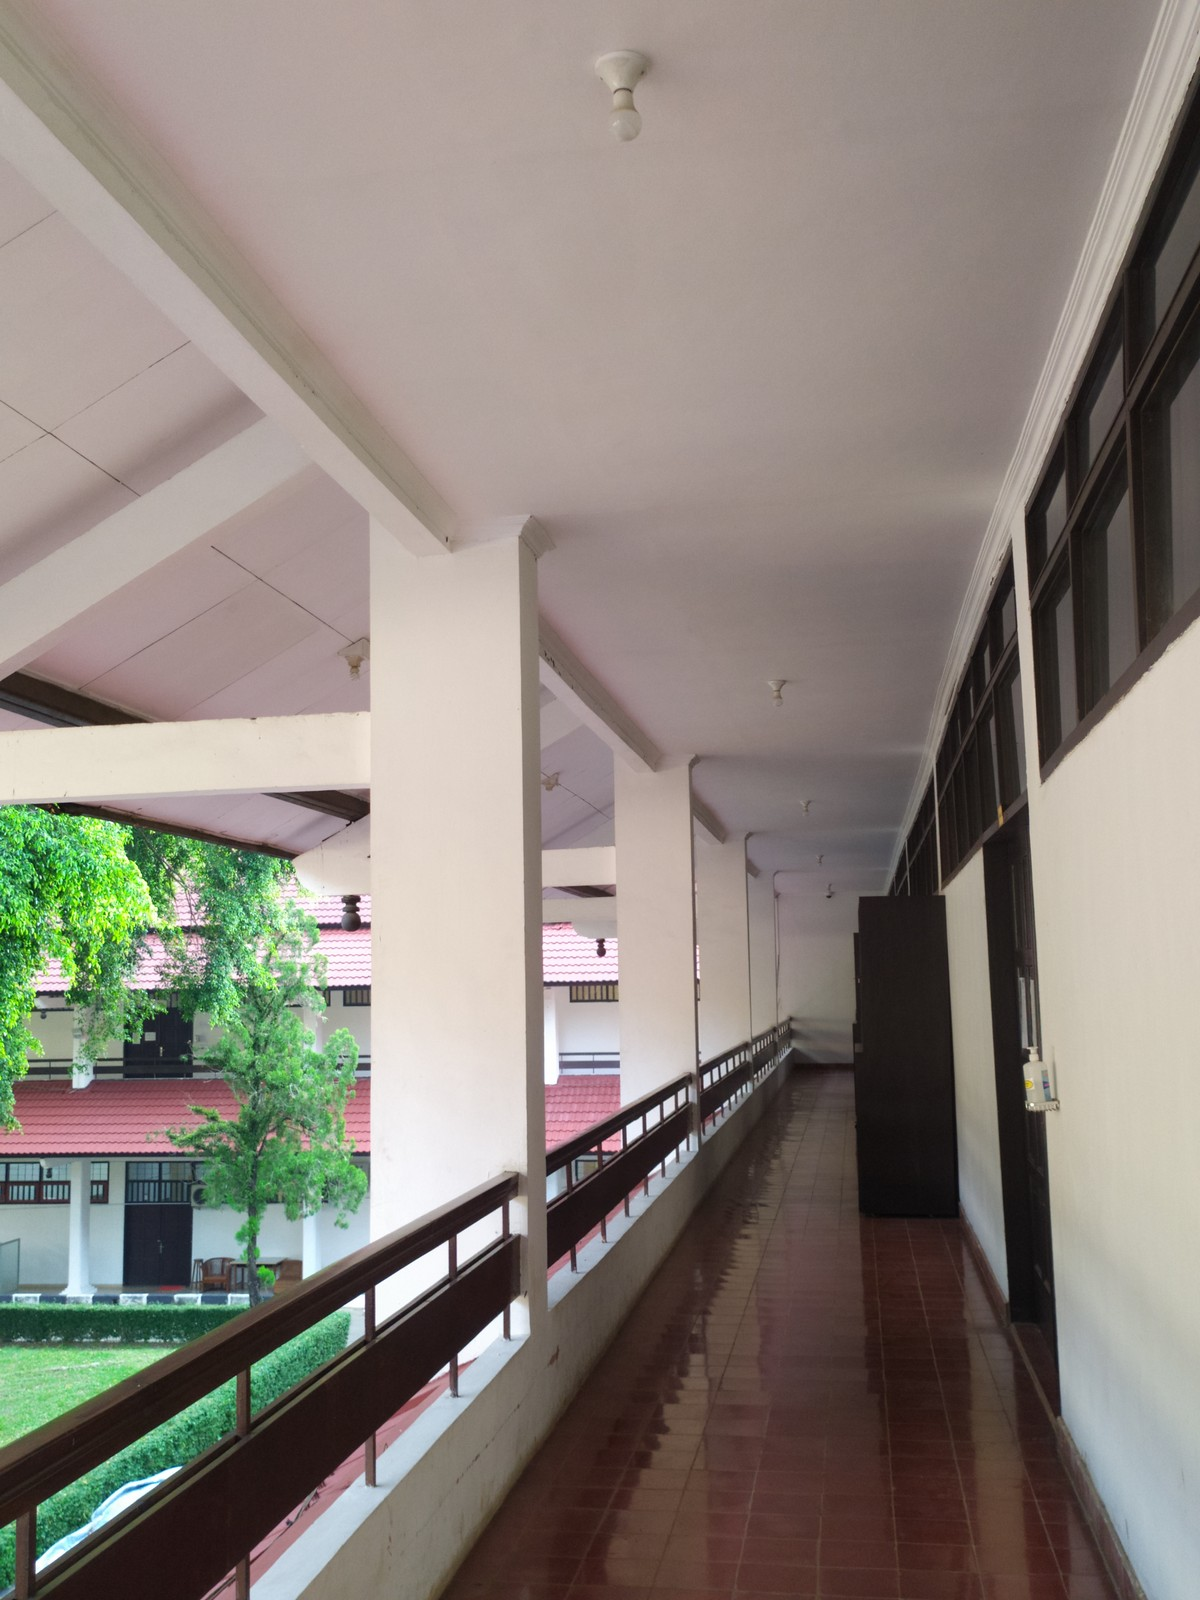concrete beam: (3, 706, 389, 815)
concrete column: (354, 508, 560, 1339), (613, 741, 708, 1155)
